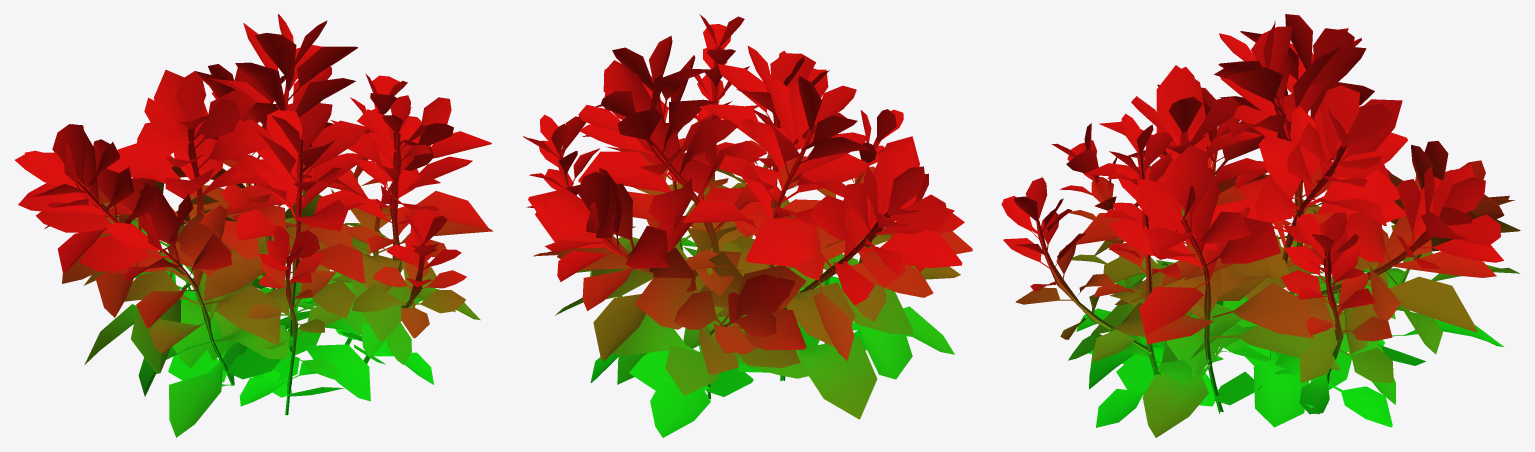
Rendered from Var7_LOD4.fbx.
3 views of the same model, side by side, from view 1: azimuth 30°, elevation 25°; view 2: azimuth 150°, elevation 25°; view 3: azimuth 270°, elevation 25° (orthographic). The views are drawn at different scales.
Parts seen in each view (by area): view 1: _358i_Var7_LOD4; view 2: _358i_Var7_LOD4; view 3: _358i_Var7_LOD4.
Part boxes in pixels (x1,y1,x2,y2): _358i_Var7_LOD4: [15, 14, 493, 437]; _358i_Var7_LOD4: [523, 14, 972, 437]; _358i_Var7_LOD4: [1001, 14, 1520, 437].
Bounding box in the file's own units: 94.92 × 70.78 × 98.5.
